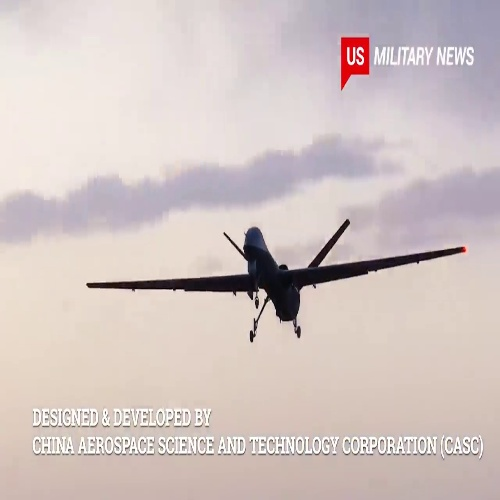uav: (87, 222, 467, 342)
